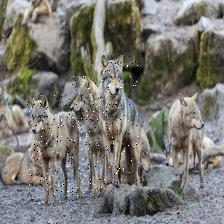WOLF: (28, 94, 79, 205), (101, 56, 140, 188), (72, 77, 105, 195)
